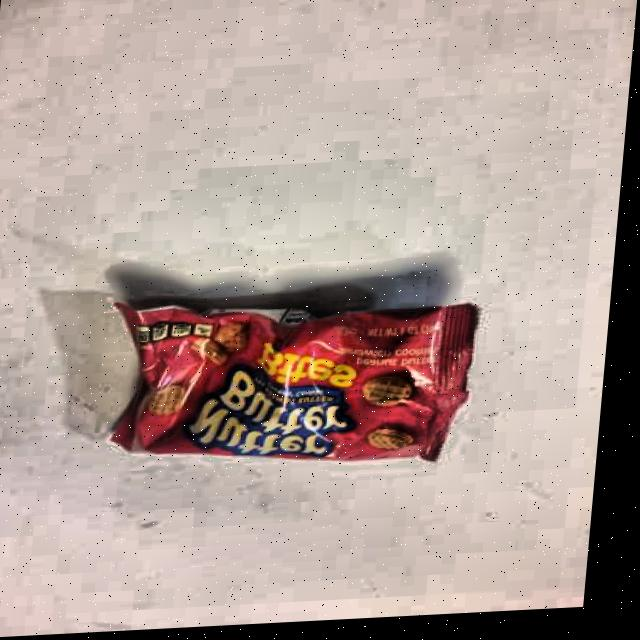plastic: (69, 248, 517, 499)
